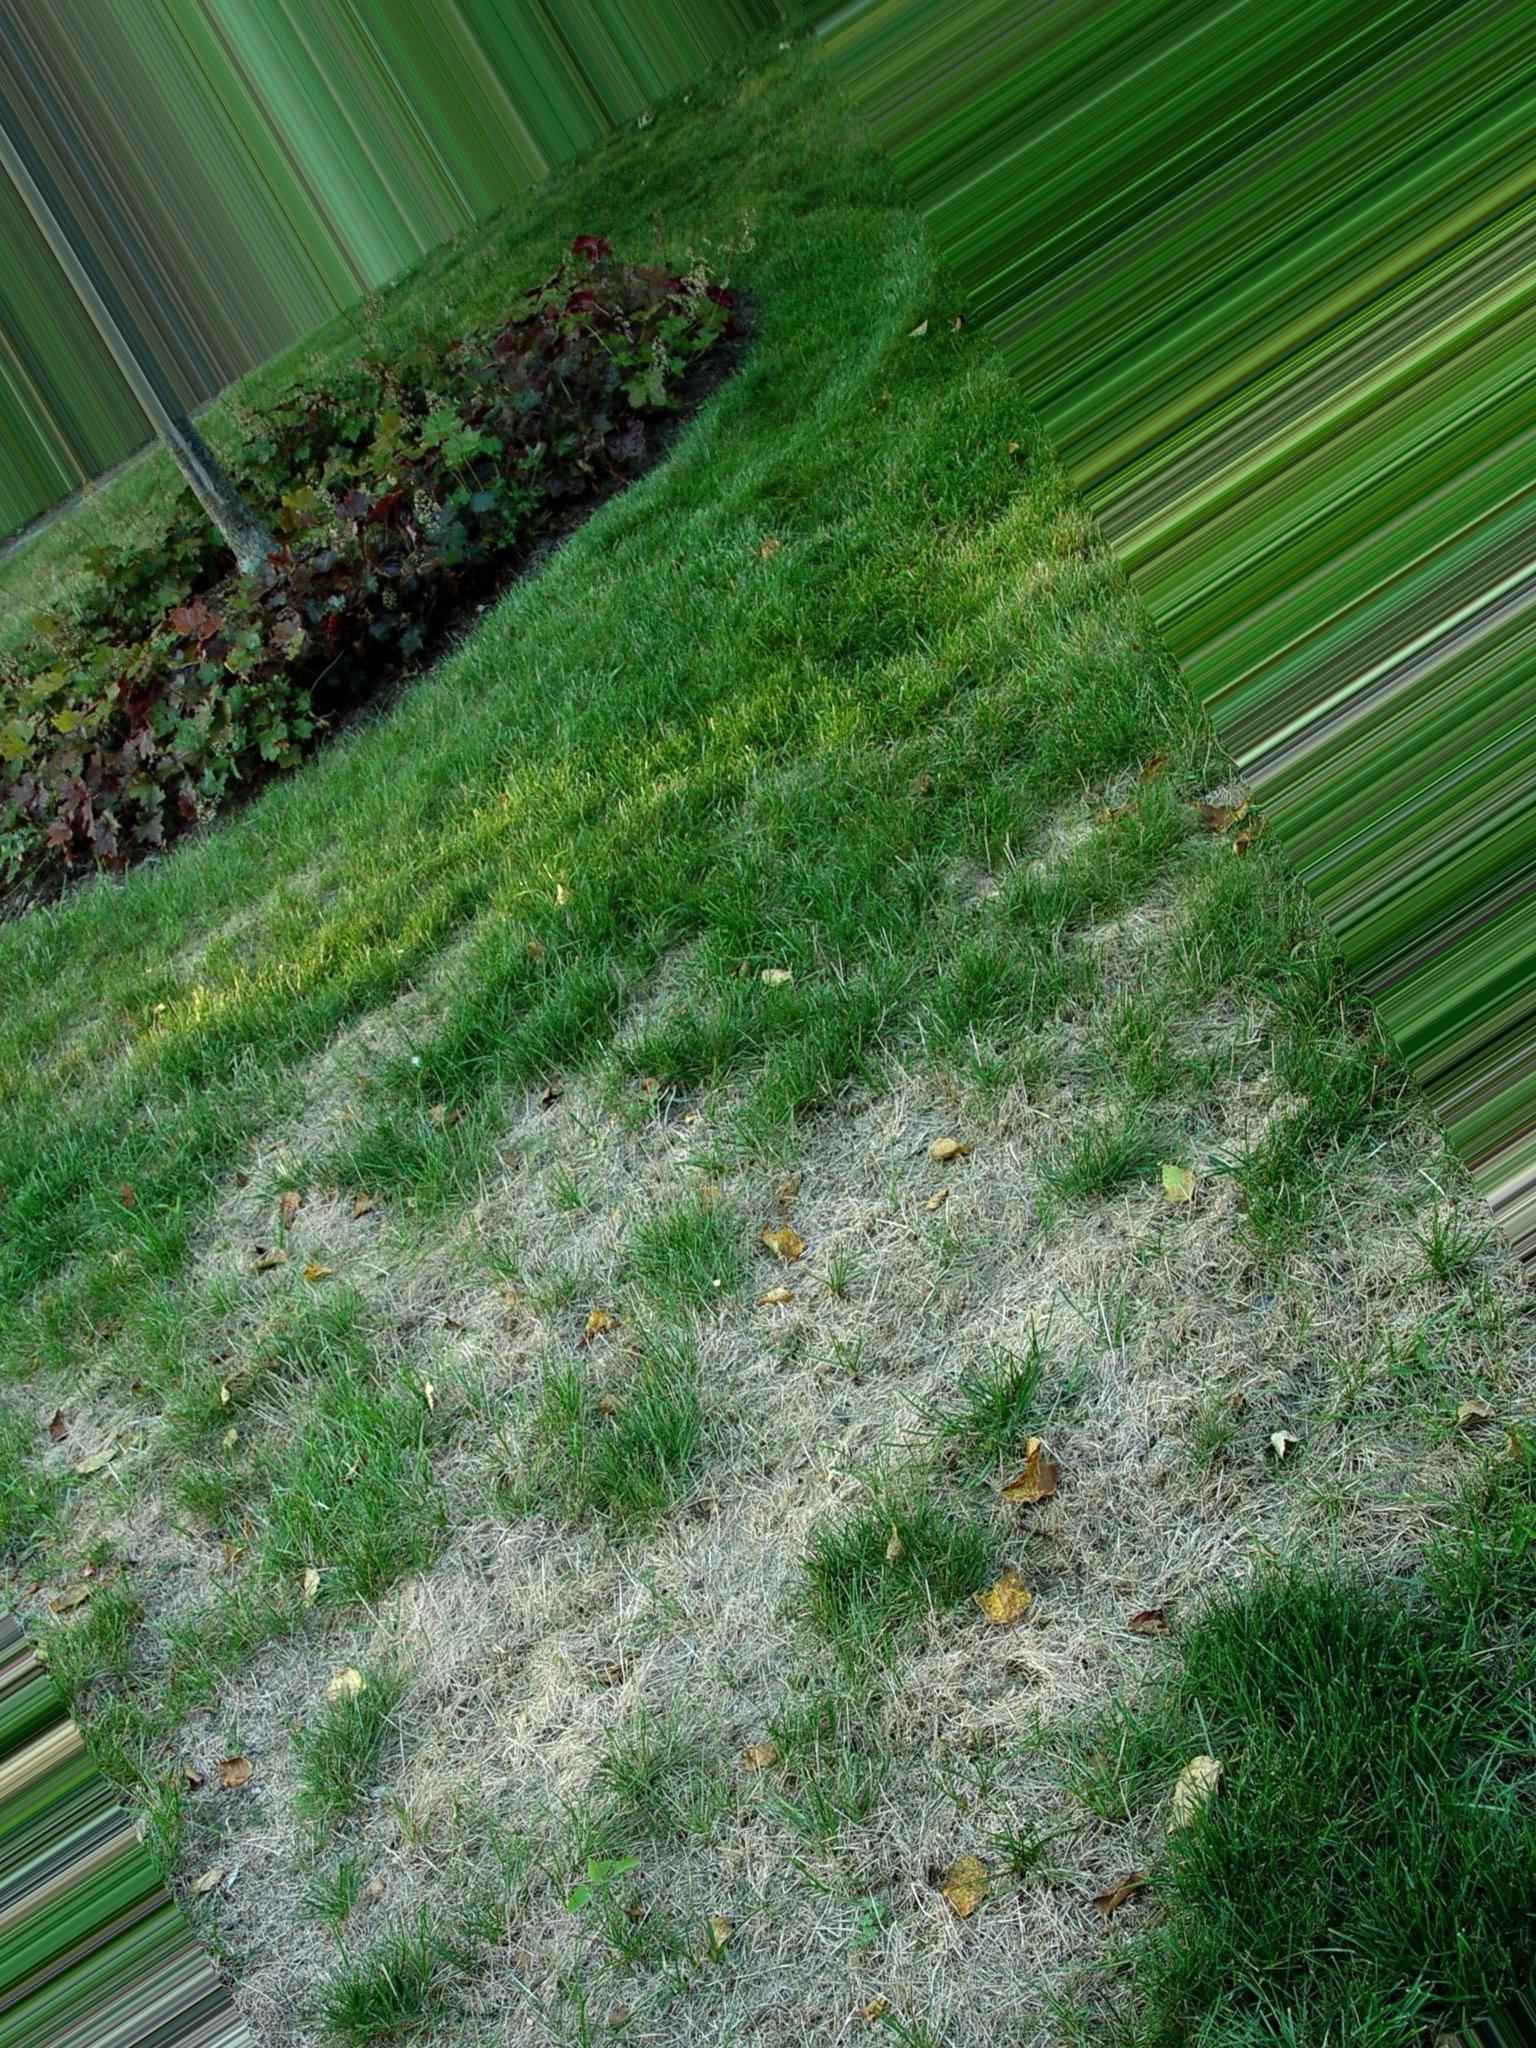patch: (379, 1522, 791, 1745), (916, 1338, 1276, 1579), (269, 1842, 670, 2032), (813, 1814, 1194, 1990), (403, 1218, 694, 1429)
